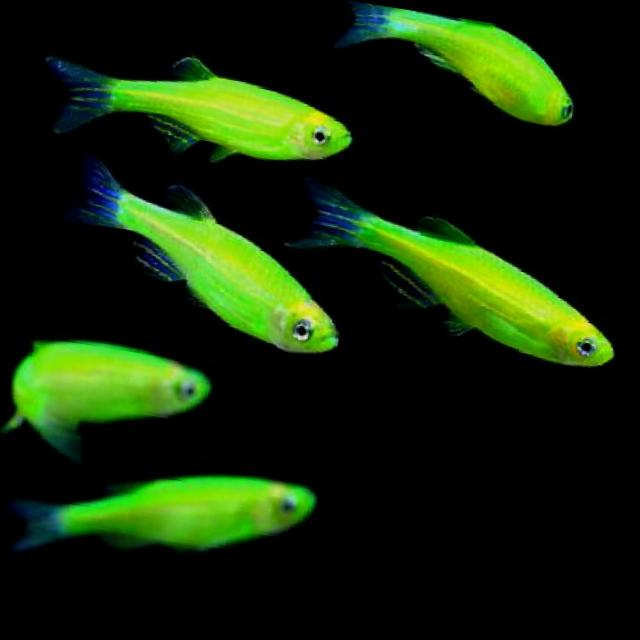ZebraFish: (292, 175, 634, 374), (56, 152, 360, 356), (35, 35, 368, 172)
